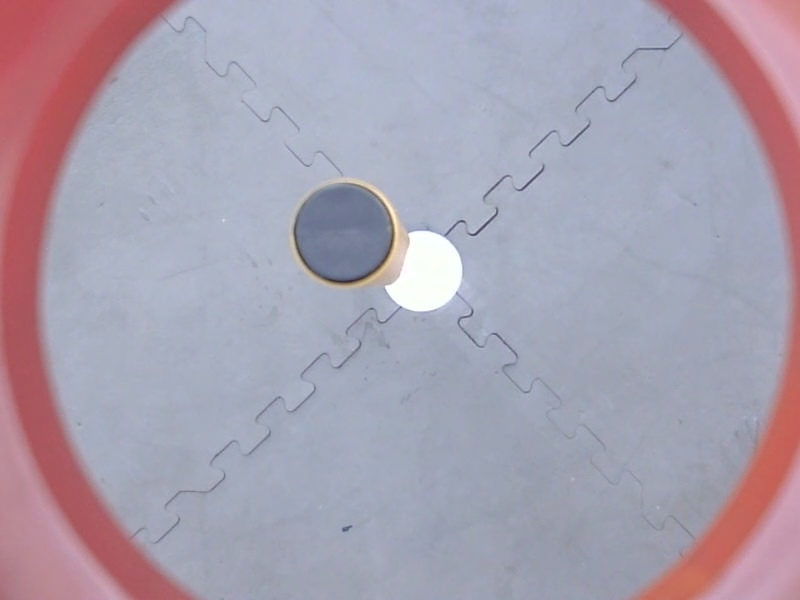tip: (284, 173, 405, 294)
